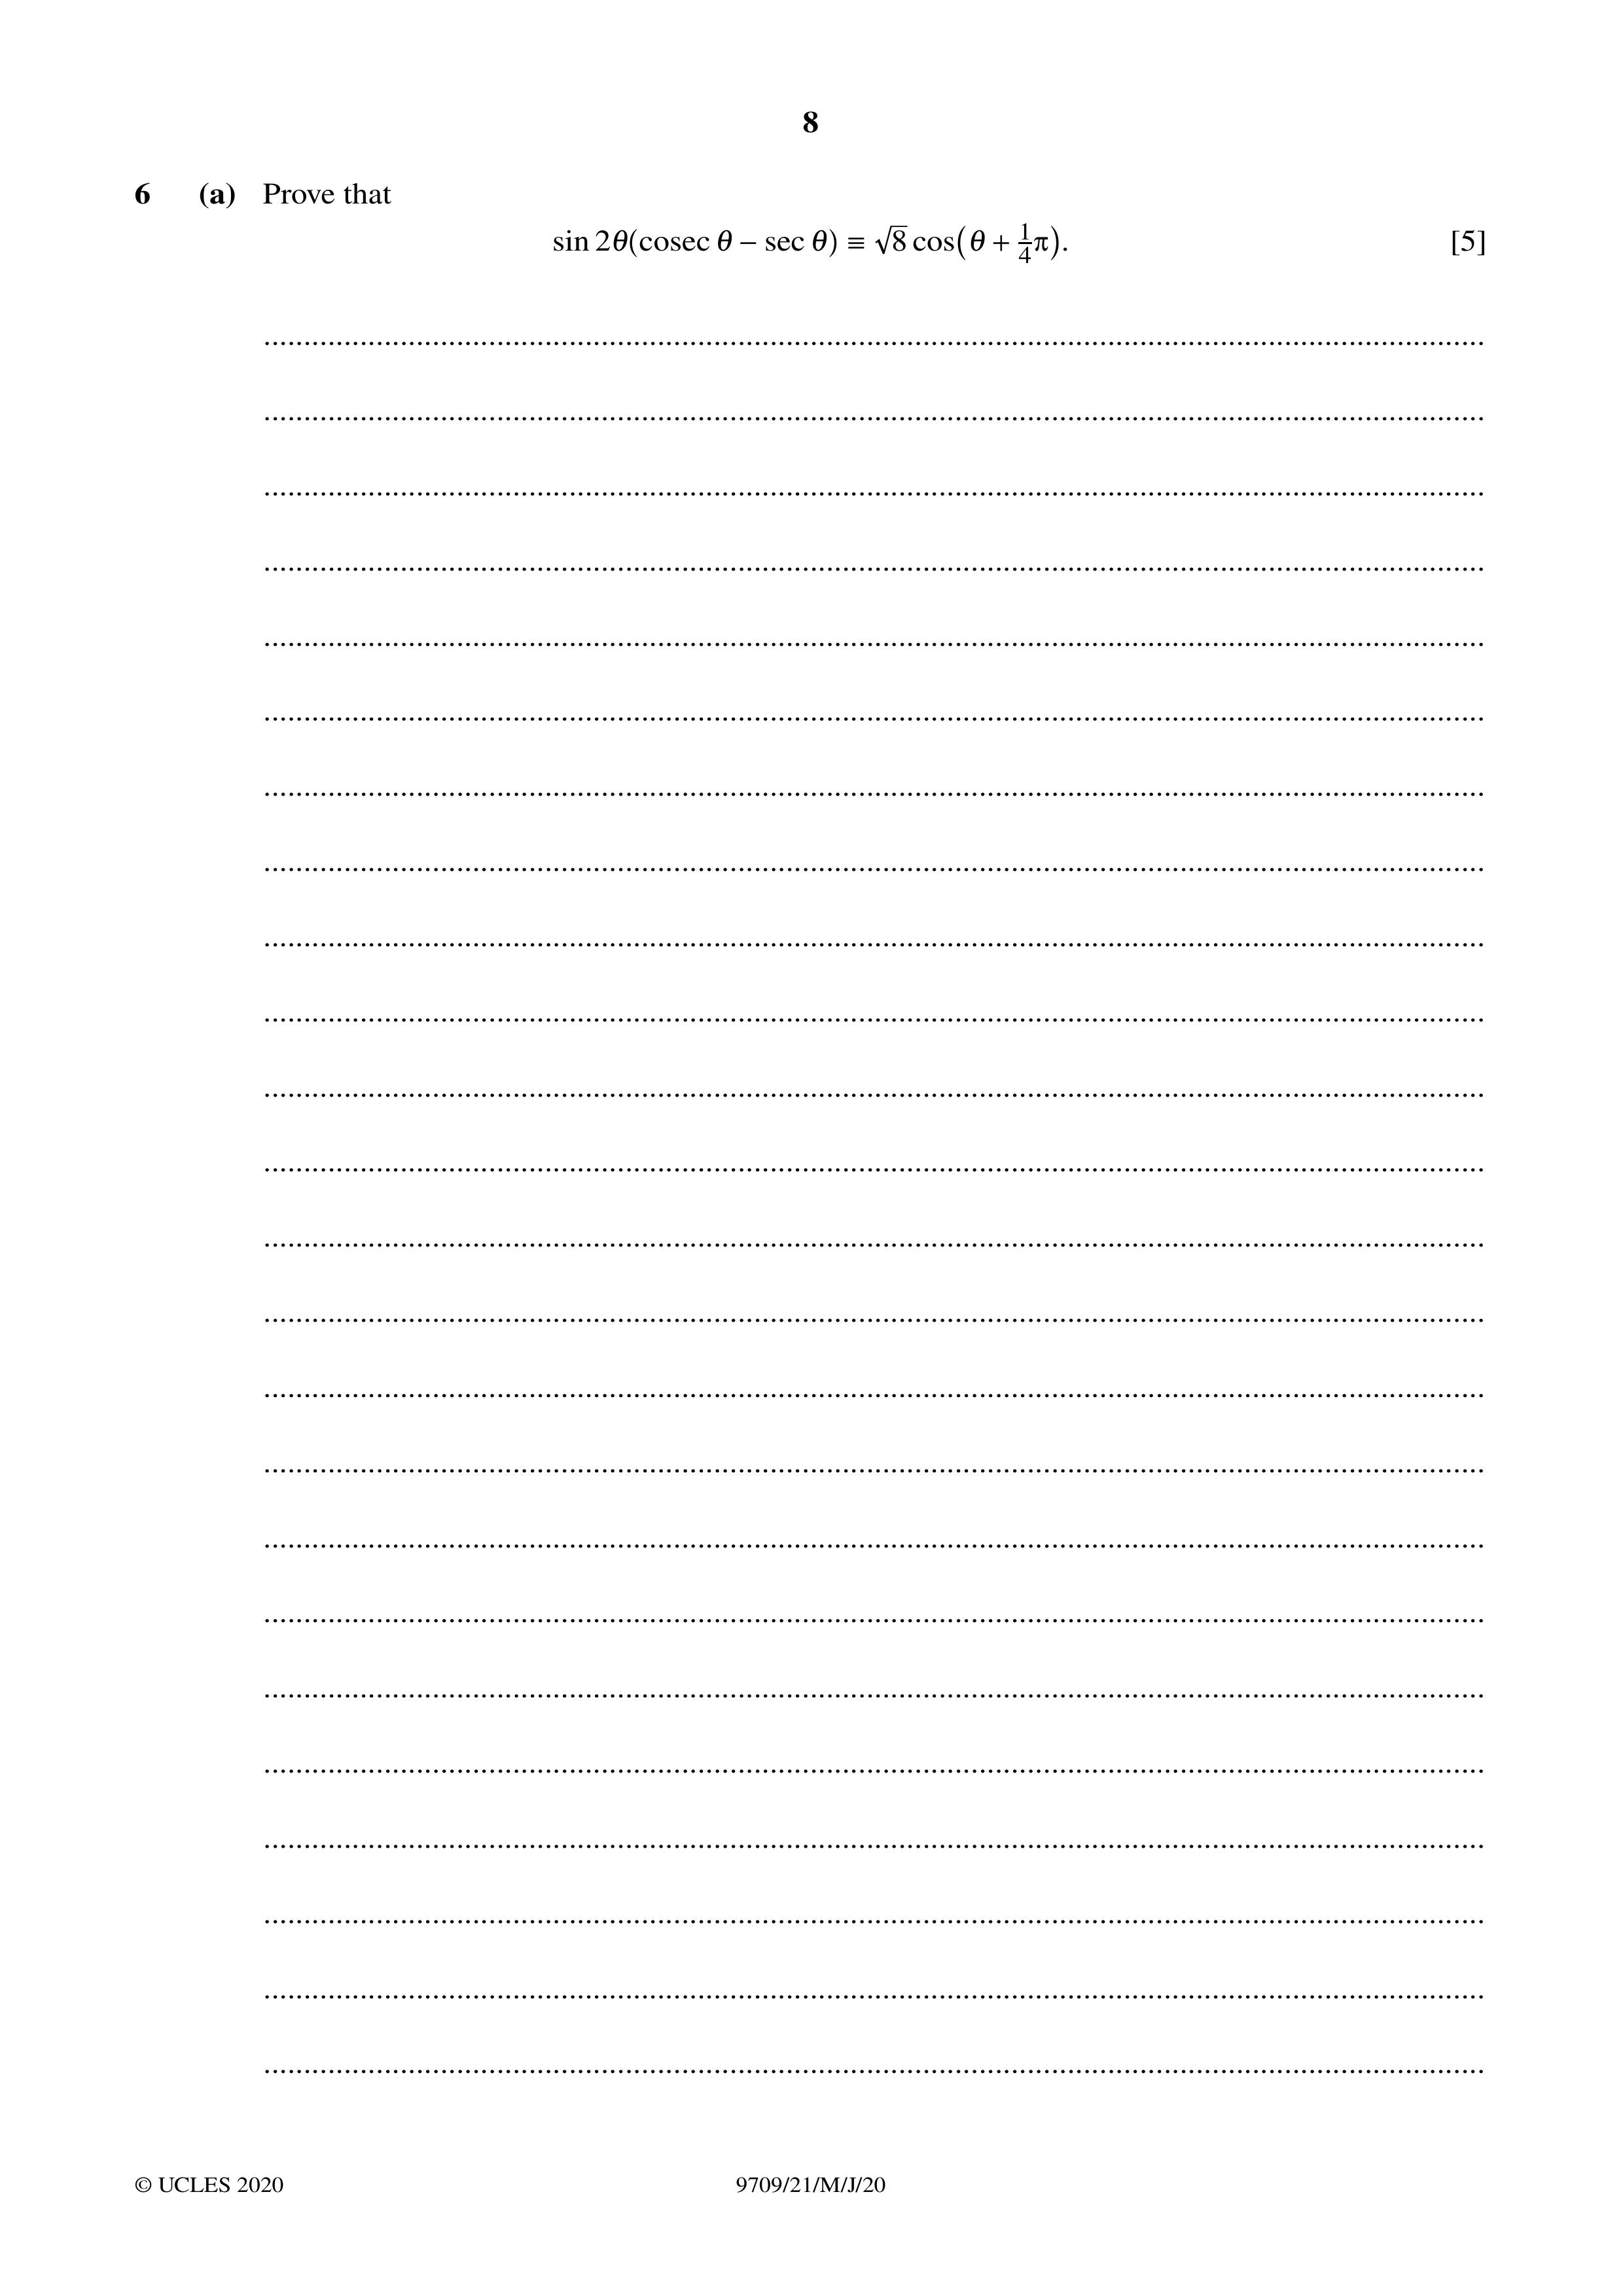question: (109, 151, 1511, 307)
